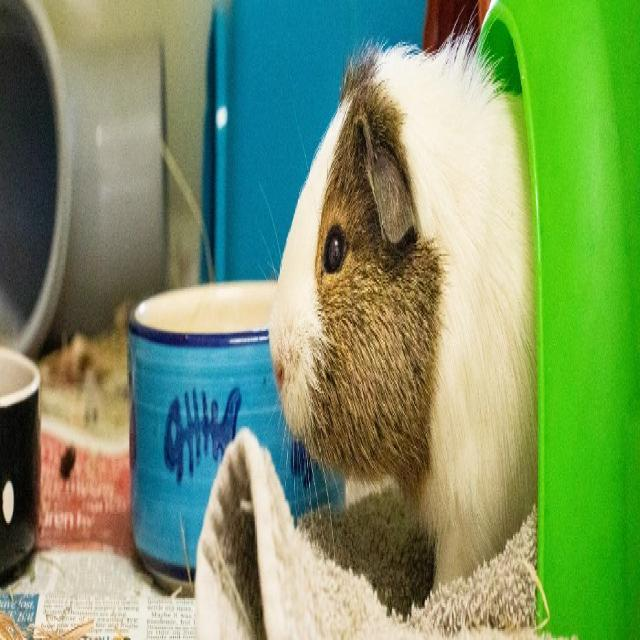Guinea Pig: (266, 16, 539, 597)
